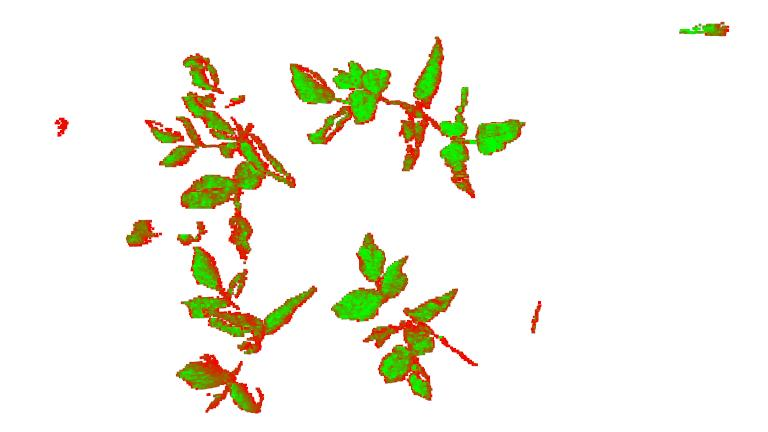mungbean: (288, 37, 526, 201), (176, 211, 319, 415), (332, 230, 484, 401), (143, 52, 297, 211)
